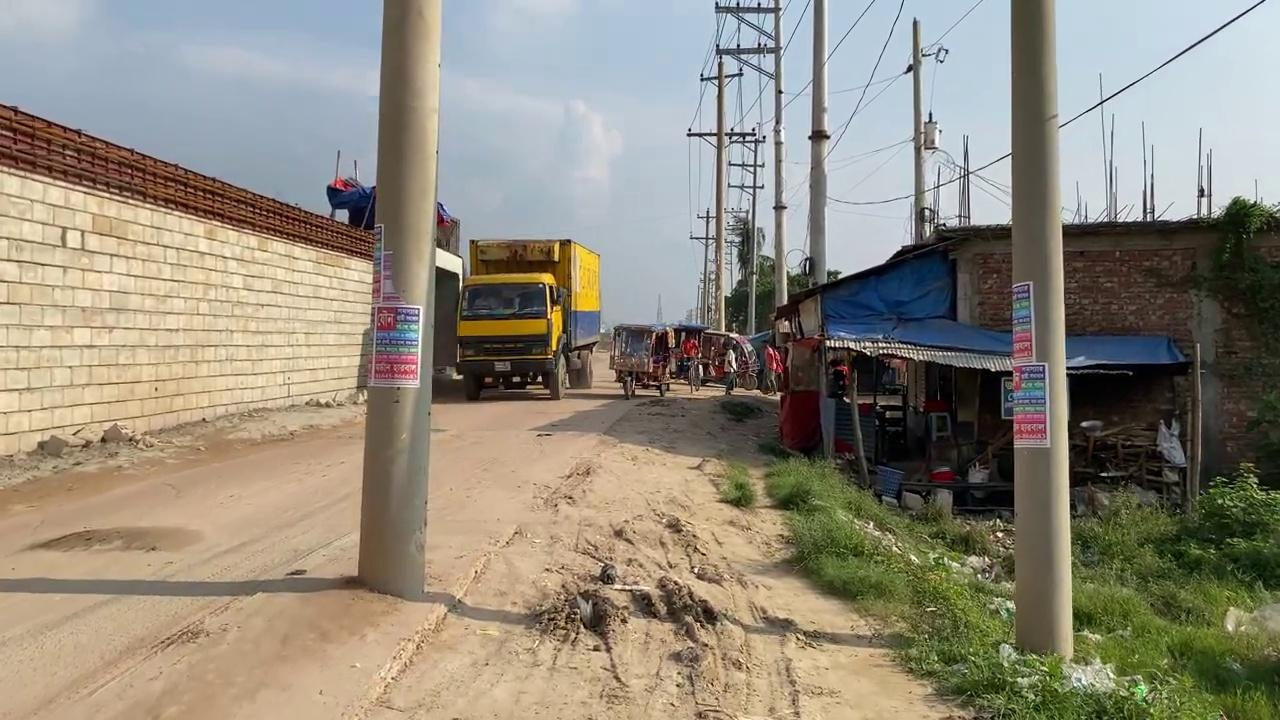Pole: (356, 0, 442, 599), (1009, 1, 1074, 662), (807, 0, 831, 458)
Pothole: (23, 522, 206, 556)
Rickshaw: (380, 396, 960, 720)
Tree: (455, 237, 602, 401)
Upstairs: (0, 112, 362, 474)
